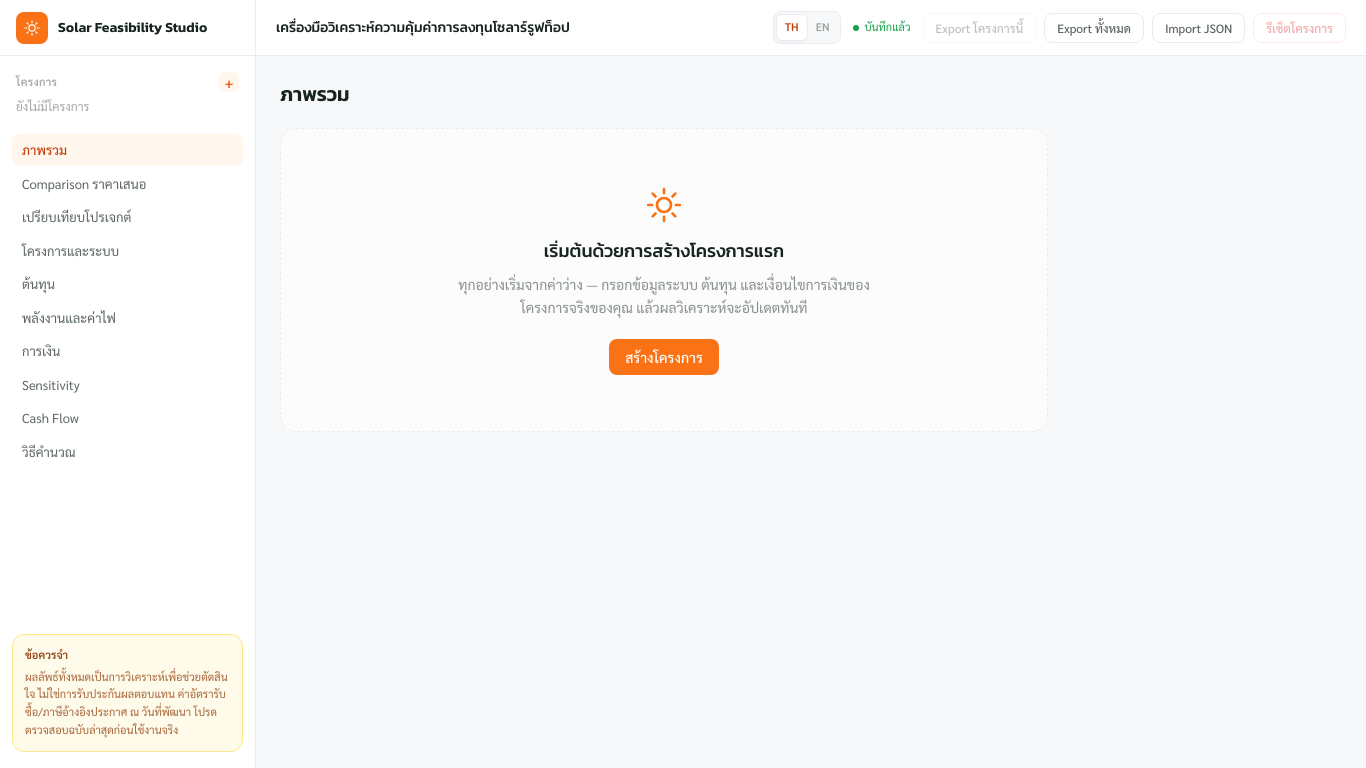
it: costs page (Phase 4) › moves a line CAPEX -> OPEX
The image size is (1366, 768).
Click the button "สร้างโครงการ" at (664, 356), box top-left (609, 338), bottom-right (719, 374)
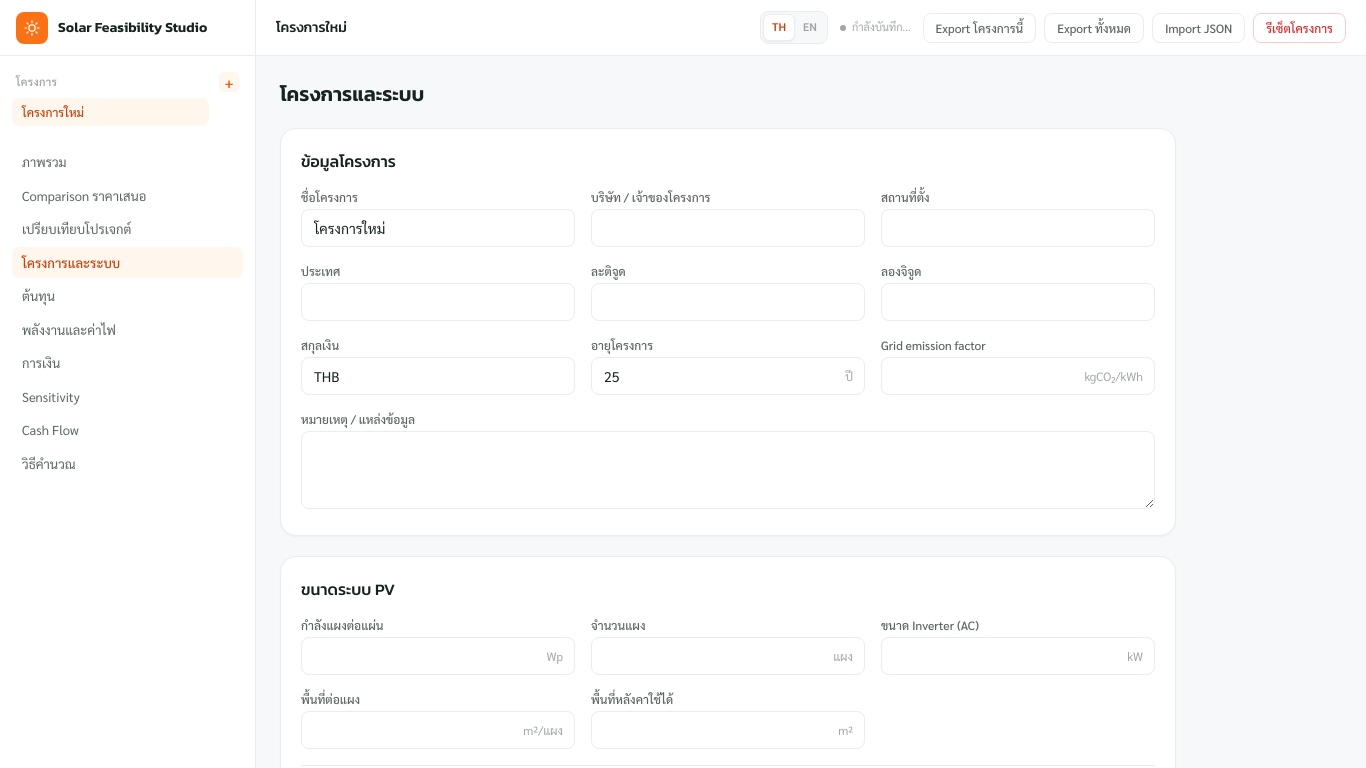
Click the link "ต้นทุน" at (38, 296), box top-left (22, 287), bottom-right (55, 304)
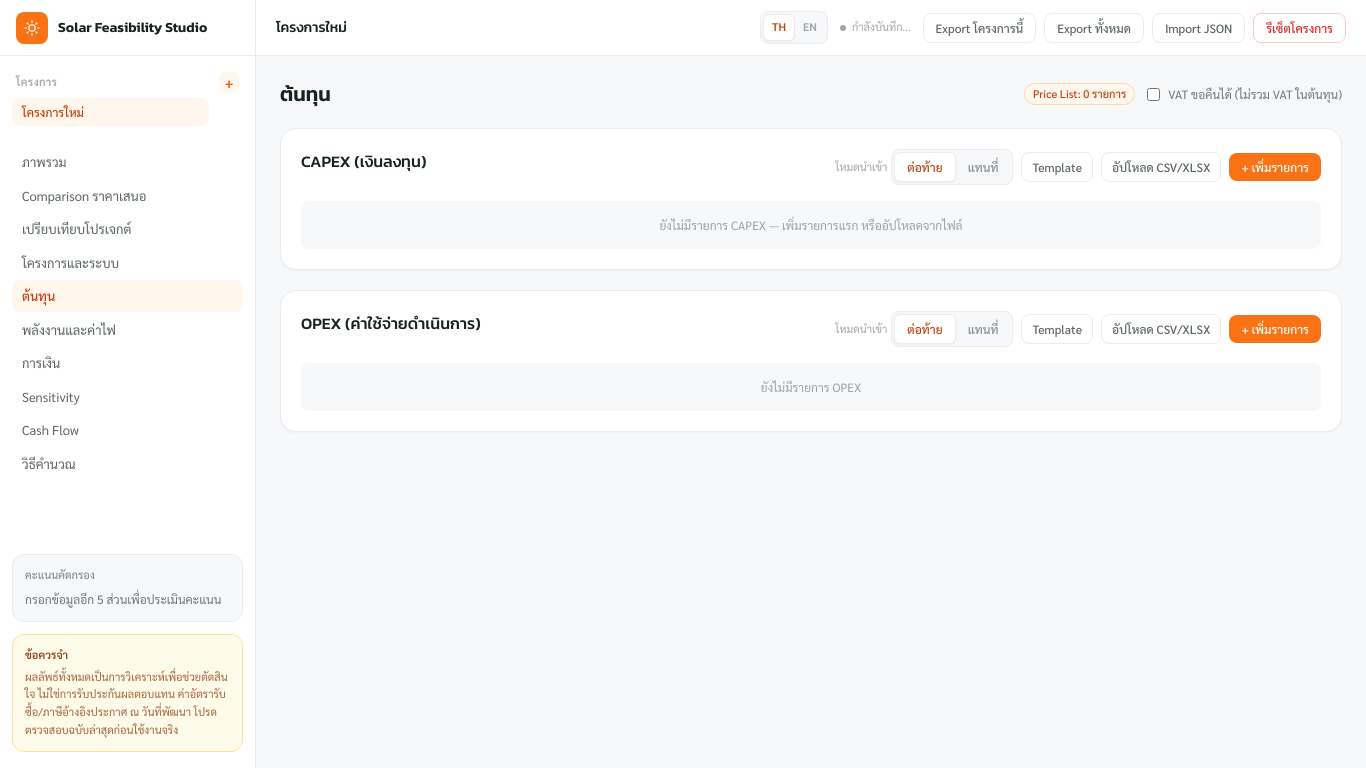
Click the button "+ เพิ่มรายการ" in the row of "CAPEX (เงินลงทุน)" at (1275, 167), box top-left (1229, 153), bottom-right (1321, 181)
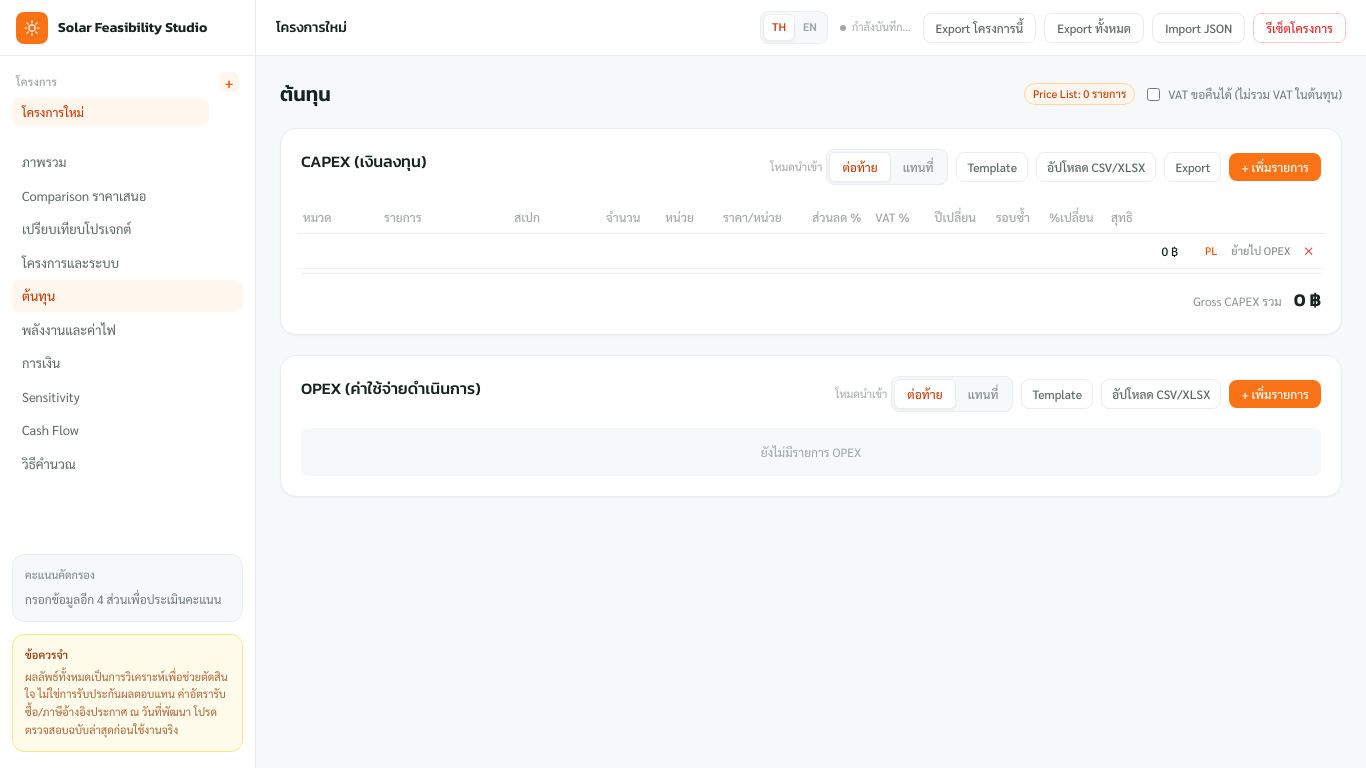
Click the button "ย้ายไป OPEX" at (1261, 251), box top-left (1225, 241), bottom-right (1297, 261)
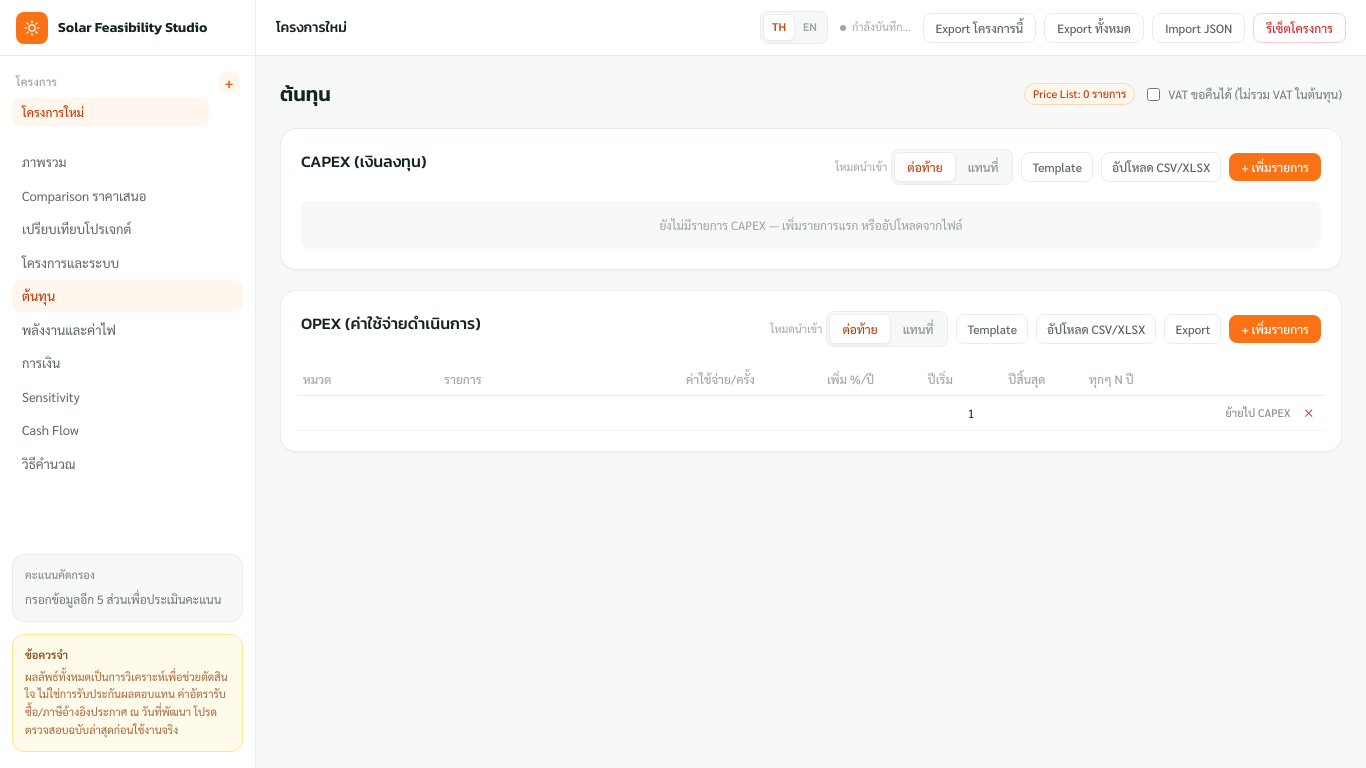
Check: the text "ยังไม่มีรายการ CAPEX — เพิ่มรายการแรก หรืออัปโหลดจากไฟล์" is shown, box top-left (301, 201), bottom-right (1321, 249)
Check: the button "ย้ายไป CAPEX" is shown, box top-left (1219, 403), bottom-right (1297, 423)
